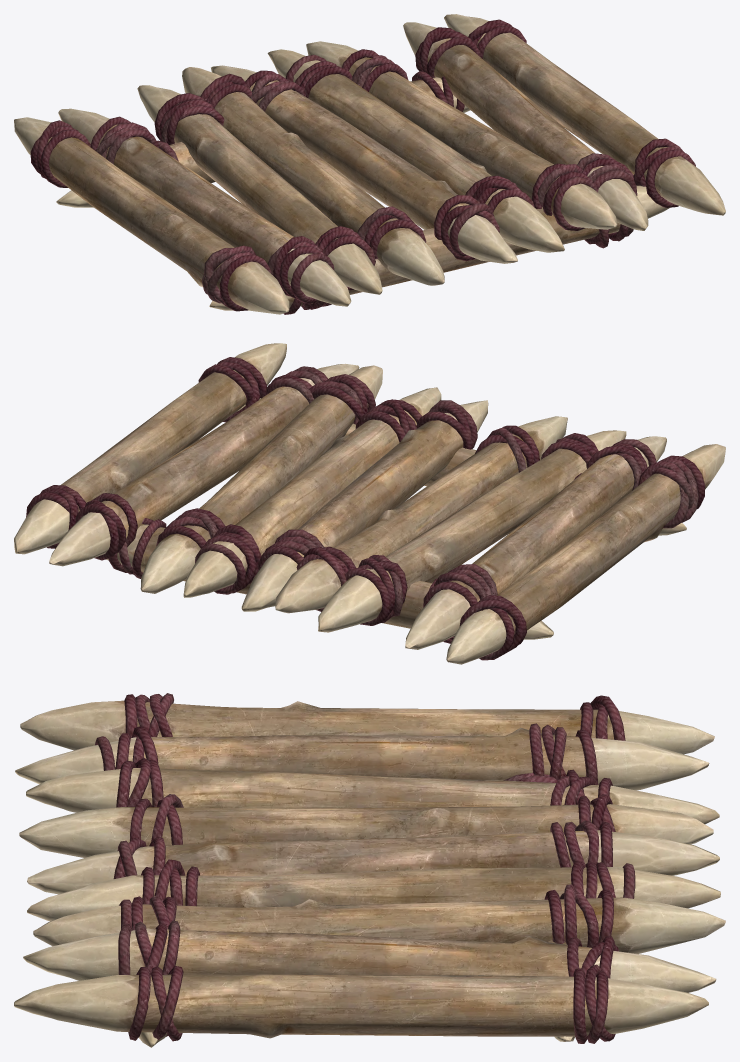
The picture shows the model from 3 angles, top to bottom: view 1: azimuth 30°, elevation 25°; view 2: azimuth 150°, elevation 25°; view 3: azimuth 270°, elevation 25°; orthographic projection. The views are drawn at different scales.
Visible parts, largest first — view 1: SM_Garou_Set_SM_LogPlatform_4x4_LOD0; view 2: SM_Garou_Set_SM_LogPlatform_4x4_LOD0; view 3: SM_Garou_Set_SM_LogPlatform_4x4_LOD0.
Boxes of the visible parts, x1=… form: SM_Garou_Set_SM_LogPlatform_4x4_LOD0: x1=14, y1=14, x2=725, y2=314; SM_Garou_Set_SM_LogPlatform_4x4_LOD0: x1=14, y1=343, x2=725, y2=664; SM_Garou_Set_SM_LogPlatform_4x4_LOD0: x1=14, y1=693, x2=725, y2=1047.
Bounding box in the file's own units: 4.06 × 0.7011 × 4.
1 material, 1 textured.
